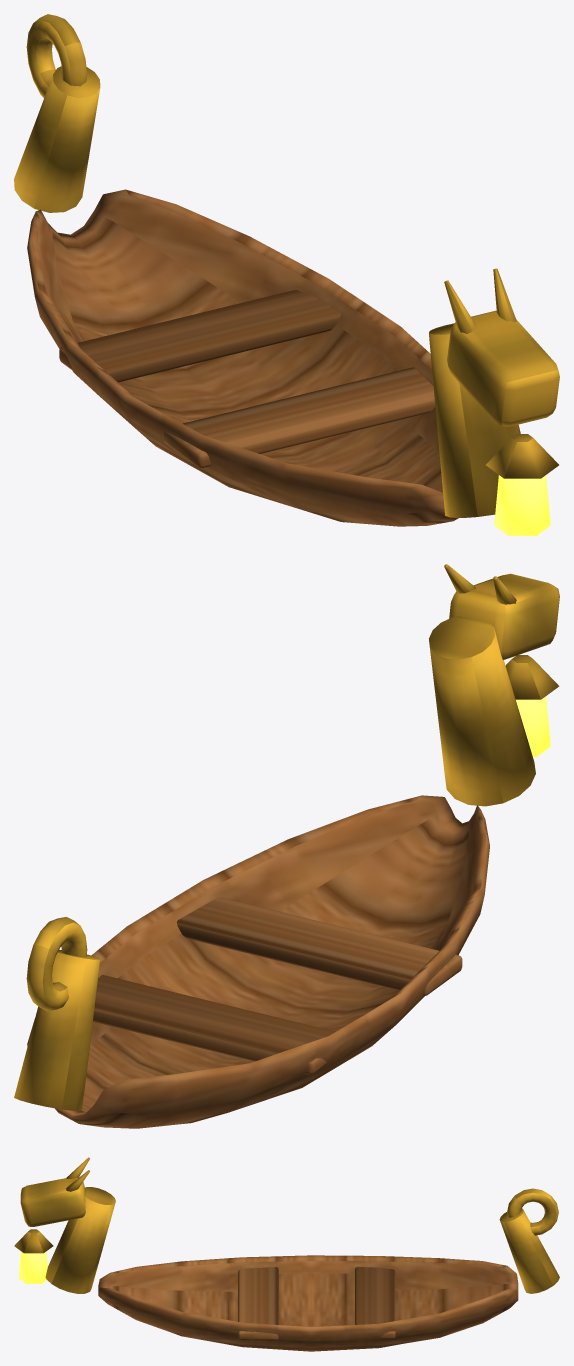
File: g_prop_boat.glb
The picture shows the model from 3 angles, top to bottom: view 1: azimuth 30°, elevation 25°; view 2: azimuth 150°, elevation 25°; view 3: azimuth 270°, elevation 25°; orthographic projection. The views are drawn at different scales.
Parts seen in each view (by area): view 1: BoatHull, BoatBench2, BoatBench1, DragonHead, DragonNeck, SternPost, SternCurl, BoatLanternGlow, BoatLanternCap, DragonHorn_-0.045, DragonHorn_0.045; view 2: BoatHull, DragonNeck, BoatBench1, BoatBench2, SternPost, DragonHead, SternCurl, BoatLanternCap, BoatLanternGlow; view 3: BoatHull, DragonNeck, SternPost, BoatBench1, DragonHead, BoatBench2, SternCurl, BoatLanternGlow, BoatLanternCap.
Part boxes in pixels (x1,y1,x2,y2): BoatHull: (27,189,458,526); BoatBench2: (59,290,340,382); BoatBench1: (163,367,435,467); DragonHead: (447,310,559,426); DragonNeck: (429,323,520,517); SternPost: (14,66,100,212); SternCurl: (26,14,87,97); BoatLanternGlow: (494,475,550,535); BoatLanternCap: (486,434,558,478); DragonHorn_-0.045: (444,280,476,333); DragonHorn_0.045: (493,268,516,321); BoatHull: (27,795,489,1128); DragonNeck: (429,616,535,806); BoatBench1: (176,897,462,995); BoatBench2: (93,975,334,1074); SternPost: (14,949,100,1110); DragonHead: (449,573,559,659); SternCurl: (26,917,87,1011); BoatLanternCap: (505,655,559,699); BoatLanternGlow: (516,696,550,756); BoatHull: (98,1255,518,1351); DragonNeck: (45,1187,115,1293); SternPost: (499,1208,559,1293); BoatBench1: (238,1267,278,1339); DragonHead: (20,1177,85,1226); BoatBench2: (355,1267,395,1338); SternCurl: (507,1188,558,1235); BoatLanternGlow: (18,1251,47,1283); BoatLanternCap: (14,1229,53,1253).
Bounding box in the file's own units: 0.5939 × 0.6642 × 1.87.
3 materials, 2 textured.
